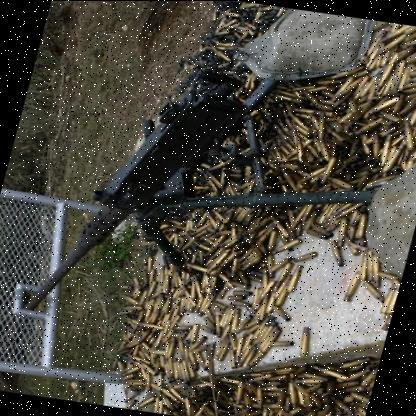rifle: (21, 38, 269, 334)
